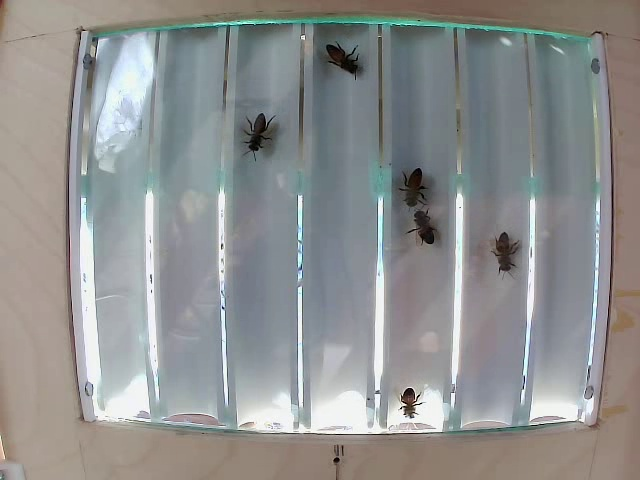bee: (325, 39, 368, 87), (235, 109, 286, 149), (405, 203, 447, 247), (394, 161, 431, 201), (494, 227, 525, 274)
